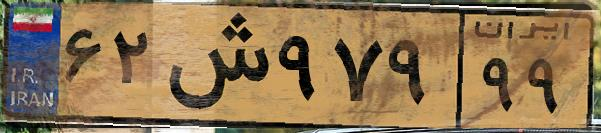2: (110, 28, 158, 98)
6: (57, 26, 110, 100)
7: (330, 28, 385, 110)
9: (270, 28, 330, 110), (385, 28, 445, 110), (475, 38, 525, 113), (525, 38, 570, 115)
ش: (158, 12, 270, 120)
